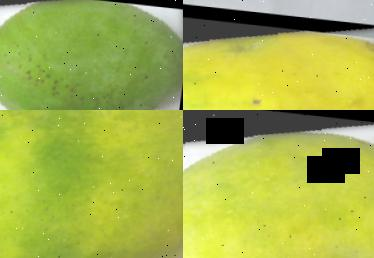PartiallyRipe: (183, 110, 374, 258), (0, 110, 183, 258)
Ripe: (183, 8, 374, 110)
Unripe: (0, 0, 183, 110)
